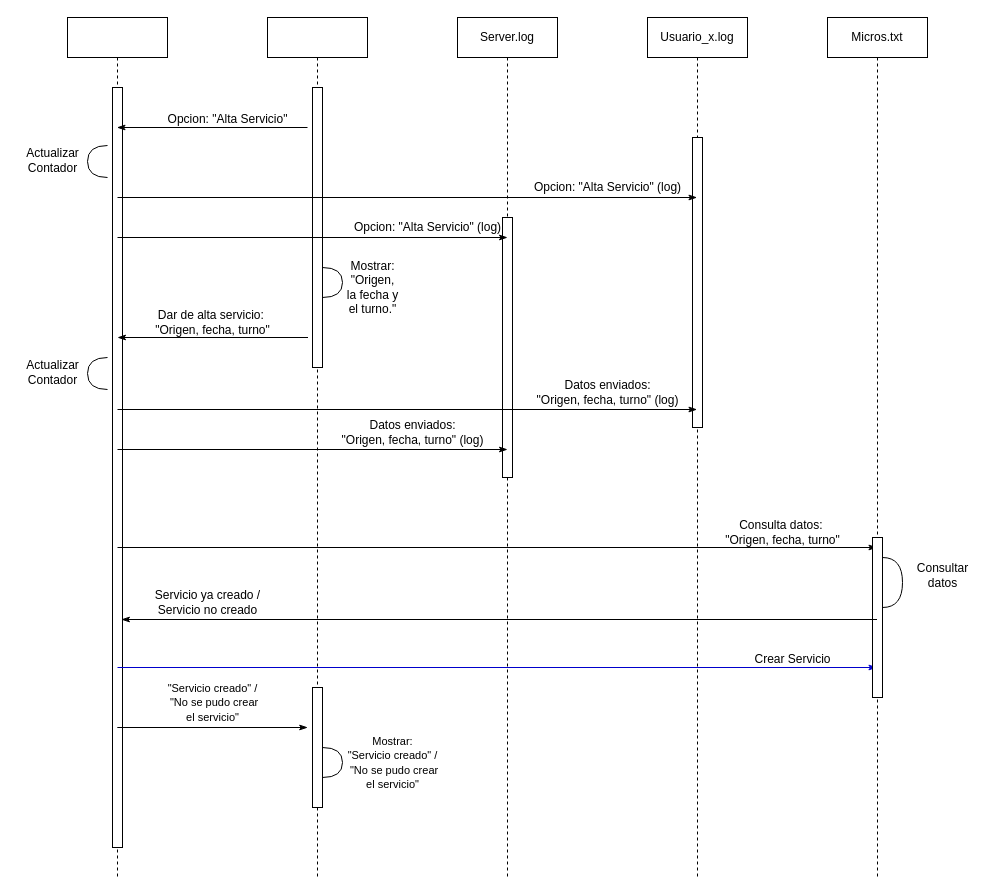
Image size: 994x895. Some labels were removed from this diagram. The box of each missing label's shape, as (x1, y1, x2, y2) in pixels:
Cliente: (266, 16, 368, 878)
Server: (66, 16, 168, 878)
